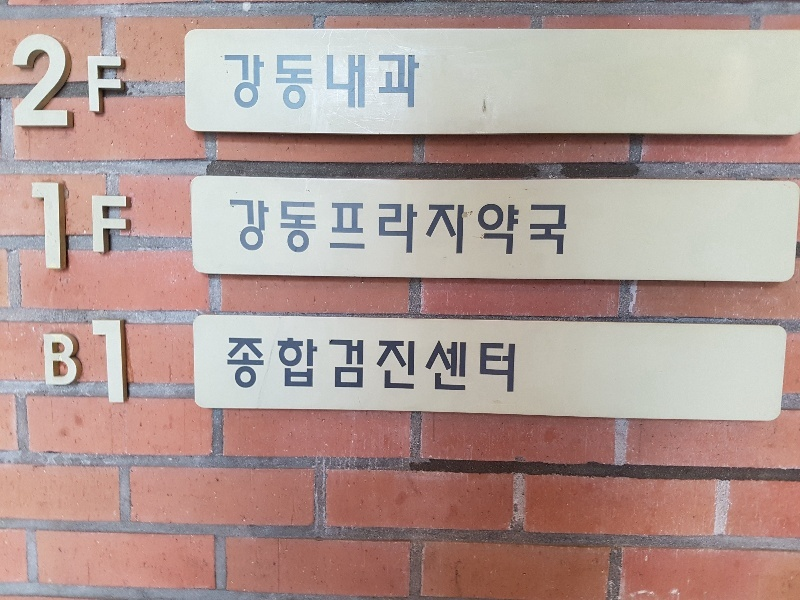text: (17, 26, 32, 130), (33, 26, 48, 130), (49, 26, 64, 130), (65, 26, 80, 130), (81, 26, 96, 130), (97, 26, 112, 130), (33, 179, 48, 278), (49, 179, 64, 278), (65, 179, 80, 278), (81, 179, 96, 278), (97, 179, 112, 278), (113, 179, 128, 278), (49, 314, 64, 410), (65, 314, 80, 410), (81, 314, 96, 410), (97, 314, 112, 410), (113, 314, 128, 410), (113, 26, 125, 130), (225, 51, 240, 113), (241, 51, 256, 113), (257, 51, 272, 113), (273, 51, 288, 113), (289, 51, 304, 113), (305, 51, 320, 113), (321, 51, 336, 113), (337, 51, 352, 113), (353, 51, 368, 113), (369, 51, 384, 113), (385, 51, 400, 113), (401, 51, 416, 113), (241, 334, 256, 395), (257, 334, 272, 395), (273, 334, 288, 395), (289, 334, 304, 395), (305, 334, 320, 395), (321, 334, 336, 395), (337, 334, 352, 395), (353, 334, 368, 395), (369, 334, 384, 395), (385, 334, 400, 395), (401, 334, 416, 395), (417, 334, 432, 395), (433, 334, 448, 395), (449, 334, 464, 395), (465, 334, 480, 395), (481, 334, 496, 395), (497, 334, 512, 395), (241, 198, 256, 258), (257, 198, 272, 258), (273, 198, 288, 258), (289, 198, 304, 258), (305, 198, 320, 258), (321, 198, 336, 258), (337, 198, 352, 258), (353, 198, 368, 258), (369, 198, 384, 258), (385, 198, 400, 258), (401, 198, 416, 258), (417, 198, 432, 258), (433, 198, 448, 258), (449, 198, 464, 258), (465, 198, 480, 258), (481, 198, 496, 258), (497, 198, 512, 258), (513, 198, 528, 258), (529, 198, 544, 258), (545, 198, 560, 258), (226, 334, 240, 395), (227, 198, 240, 258), (561, 198, 571, 258), (11, 26, 16, 130), (28, 179, 32, 278), (44, 314, 48, 410), (513, 334, 518, 395), (417, 51, 420, 113), (129, 179, 130, 278), (223, 51, 224, 113)
